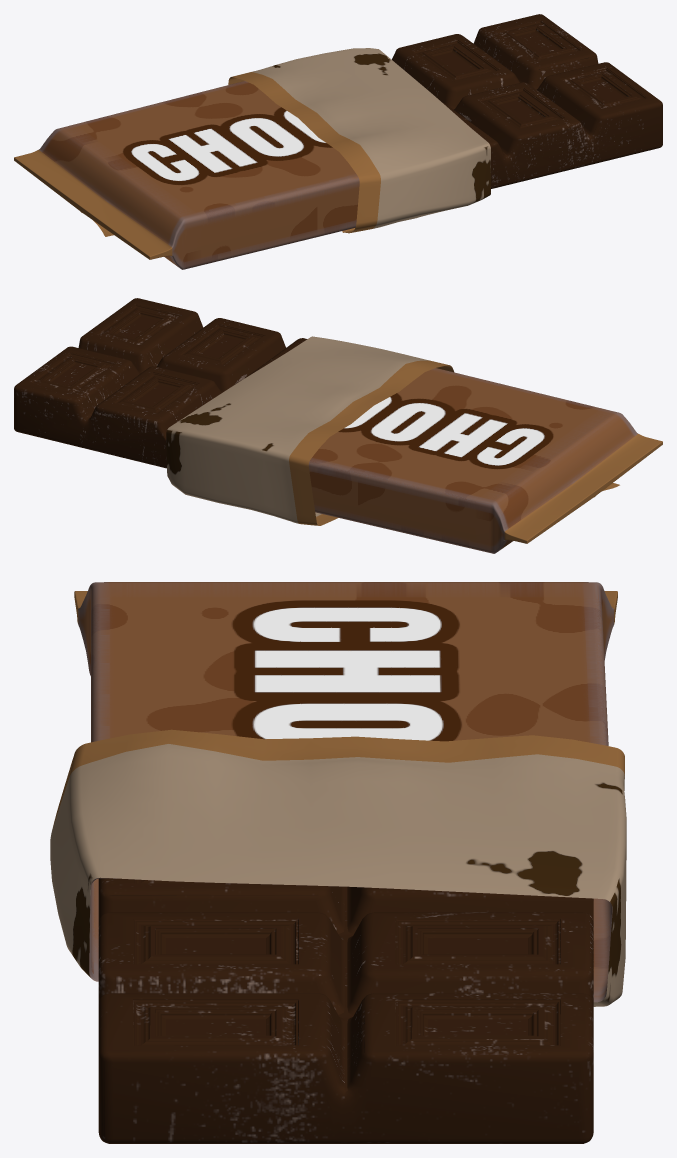
File: ChocolateFinal.fbx
The picture shows the model from 3 angles, top to bottom: view 1: azimuth 30°, elevation 25°; view 2: azimuth 150°, elevation 25°; view 3: azimuth 270°, elevation 25°; orthographic projection. The views are drawn at different scales.
Visible parts, largest first — view 1: _gltfNode_2, _gltfNode_0; view 2: _gltfNode_2, _gltfNode_0; view 3: _gltfNode_2, _gltfNode_0.
Part boxes in pixels (box(x1,y1,x2,y2)): _gltfNode_2: box(14, 48, 490, 269); _gltfNode_0: box(392, 14, 662, 188); _gltfNode_2: box(166, 336, 662, 553); _gltfNode_0: box(14, 298, 307, 468); _gltfNode_2: box(50, 582, 626, 1006); _gltfNode_0: box(98, 878, 593, 1143).
Bounding box in the file's own units: 371 × 57.87 × 177.
Materials: 2 (2 with a texture image).
